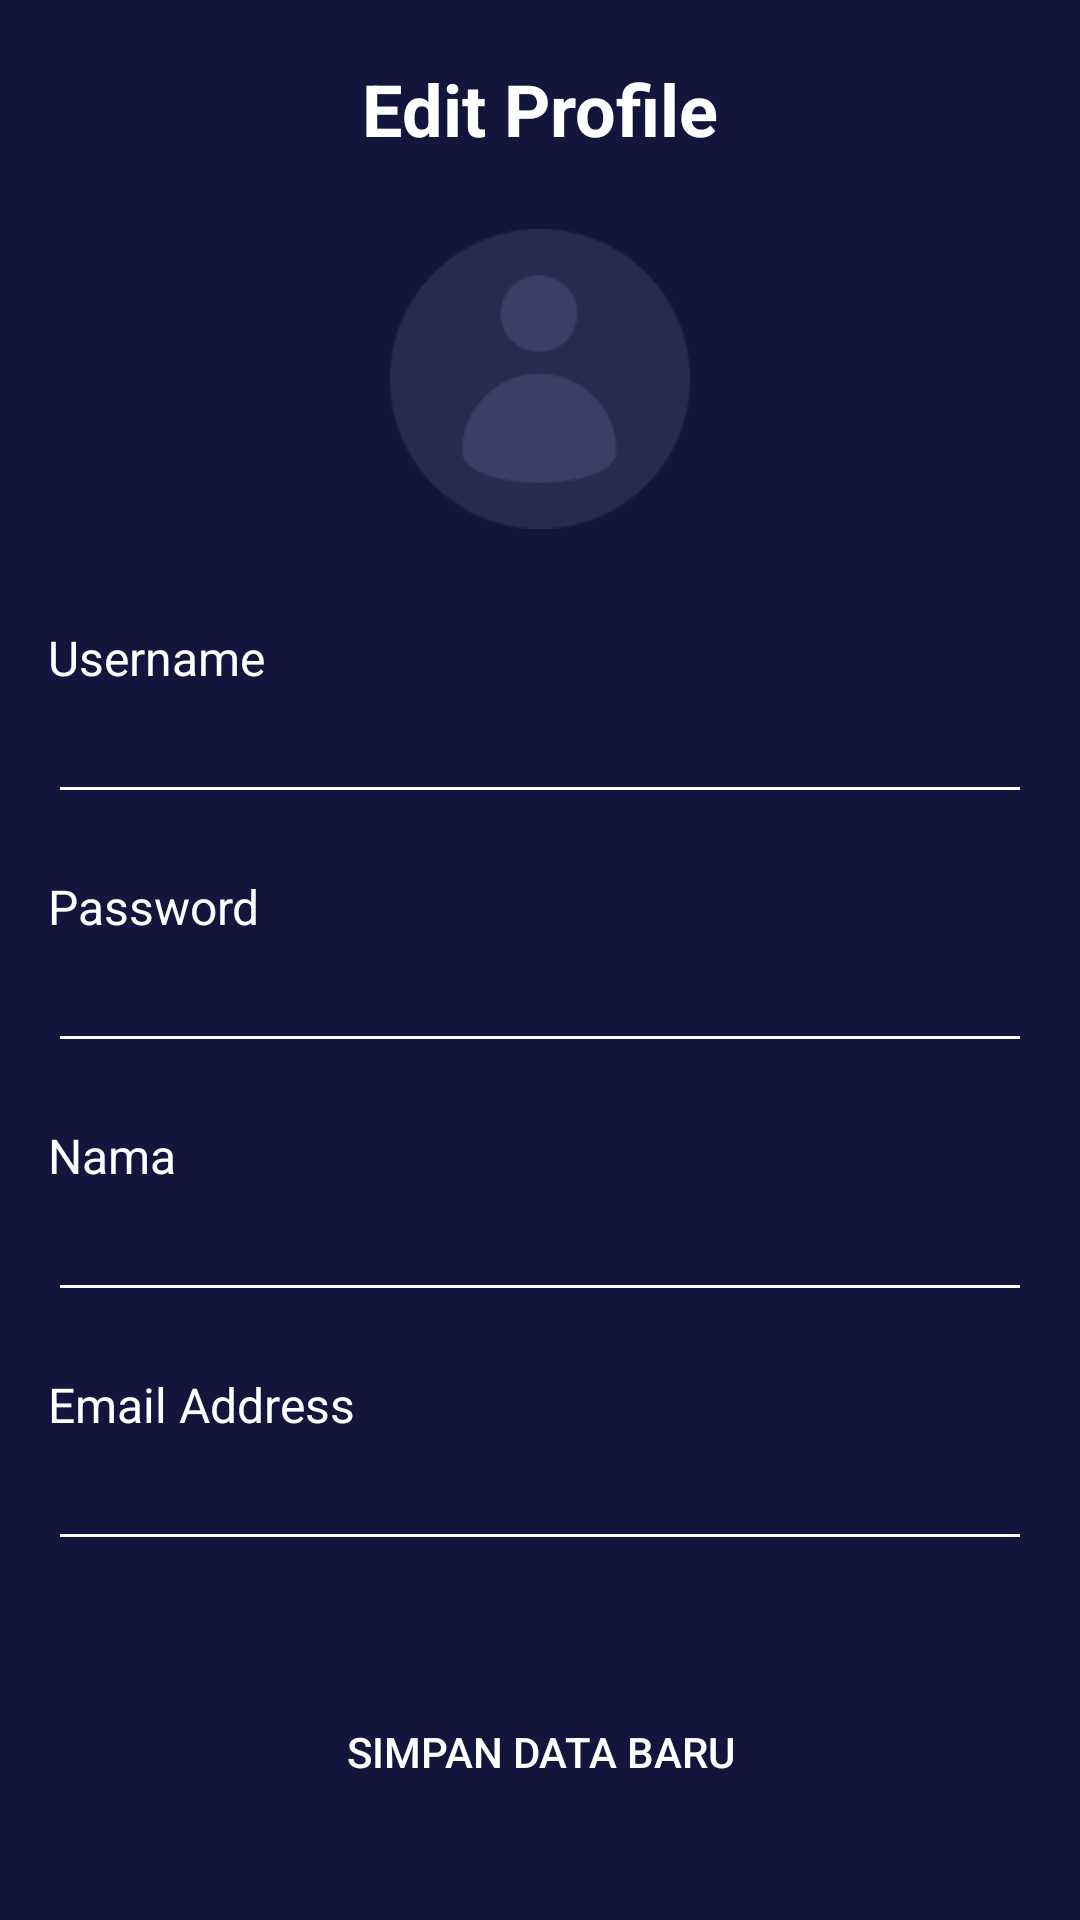

Icon click points for this 1080px x 1920px phone screenshot, format (x=x, y=y):
user pic: (x=540, y=379)
